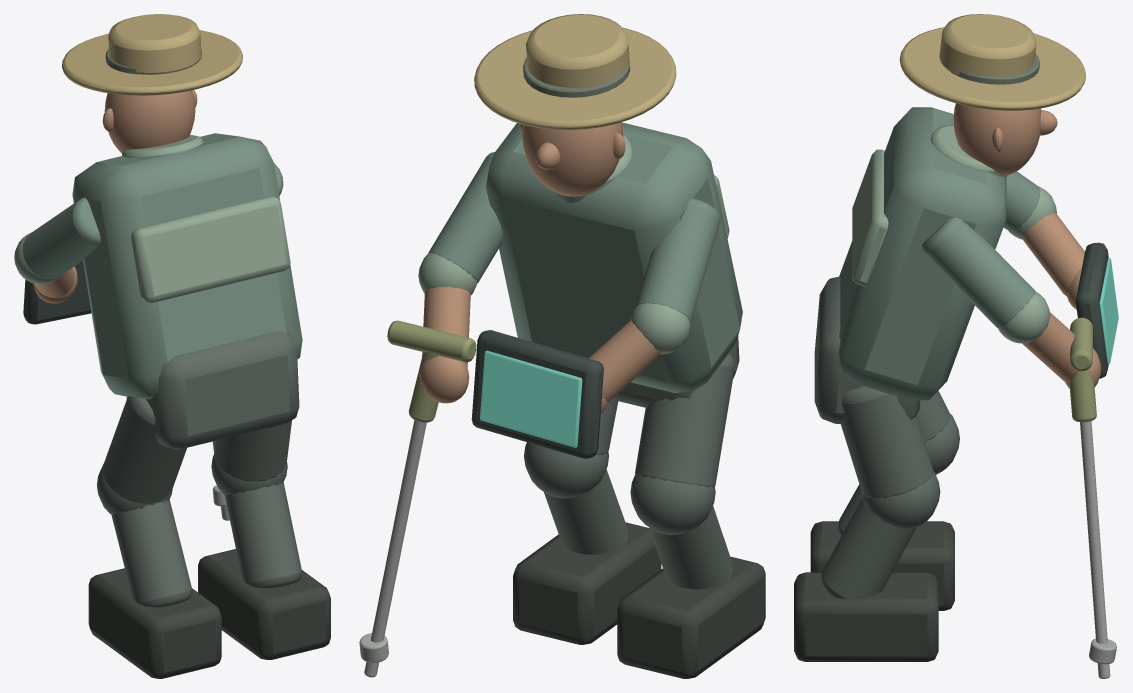
File: fieldvision-field-worker.glb
3 renders of one model, left to right at view 1: azimuth 30°, elevation 25°; view 2: azimuth 150°, elevation 25°; view 3: azimuth 270°, elevation 25°, orthographic. The views are drawn at different scales.
Parts seen in each view (by area): view 1: Torso, Pelvis, BackYoke, Boot_L, Boot_R, Shin_L, Shin_R, HatBrim, Thigh_L, HatCrown, Head, UpperArm_L (+7 smaller); view 2: Torso, Boot_L, Boot_R, HatBrim, Thigh_L, FieldTabletScreen, HatCrown, FieldTablet, UpperArm_L, Head, UpperArm_R, Shin_R (+16 smaller); view 3: Torso, Boot_R, HatBrim, Thigh_R, UpperArm_R, Shin_R, HatCrown, Head, Boot_L, Pelvis, BackYoke, RootZoneProbe (+15 smaller).
Part boxes in pixels (x1,y1,x2,y2): Torso: [72, 133, 302, 399]; Pelvis: [126, 331, 299, 449]; BackYoke: [131, 196, 290, 303]; Boot_L: [88, 568, 221, 678]; Boot_R: [198, 549, 330, 659]; Shin_L: [111, 500, 192, 607]; Shin_R: [224, 482, 302, 588]; HatBrim: [62, 30, 242, 95]; Thigh_L: [102, 396, 186, 503]; HatCrown: [108, 14, 201, 74]; Head: [104, 90, 195, 153]; UpperArm_L: [22, 197, 100, 278]; Torso: [486, 122, 742, 392]; Boot_L: [617, 556, 765, 678]; Boot_R: [513, 522, 661, 644]; HatBrim: [474, 27, 676, 129]; Thigh_L: [635, 353, 734, 487]; FieldTabletScreen: [480, 350, 582, 447]; HatCrown: [526, 14, 629, 87]; FieldTablet: [471, 330, 603, 458]; UpperArm_L: [635, 198, 720, 322]; Head: [522, 122, 623, 196]; UpperArm_R: [428, 152, 503, 282]; Shin_R: [544, 469, 628, 554]; Torso: [838, 107, 1006, 400]; Boot_R: [794, 572, 938, 661]; HatBrim: [899, 27, 1085, 110]; Thigh_R: [841, 386, 933, 498]; UpperArm_R: [922, 217, 1035, 328]; Shin_R: [820, 498, 916, 599]; HatCrown: [939, 14, 1036, 76]; Head: [953, 103, 1041, 175]; Boot_L: [810, 521, 954, 610]; Pelvis: [814, 276, 920, 424]; BackYoke: [852, 149, 888, 286]; RootZoneProbe: [1080, 421, 1110, 678].
Size of the model in its own units: 0.9231 by 2 by 0.9883.
